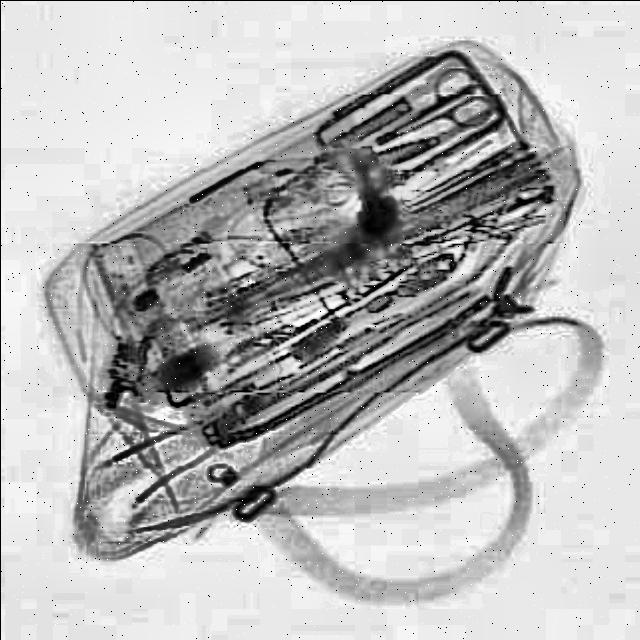Scissors: (361, 59, 509, 172)
